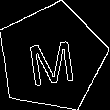M_N: (25, 29, 79, 86)
